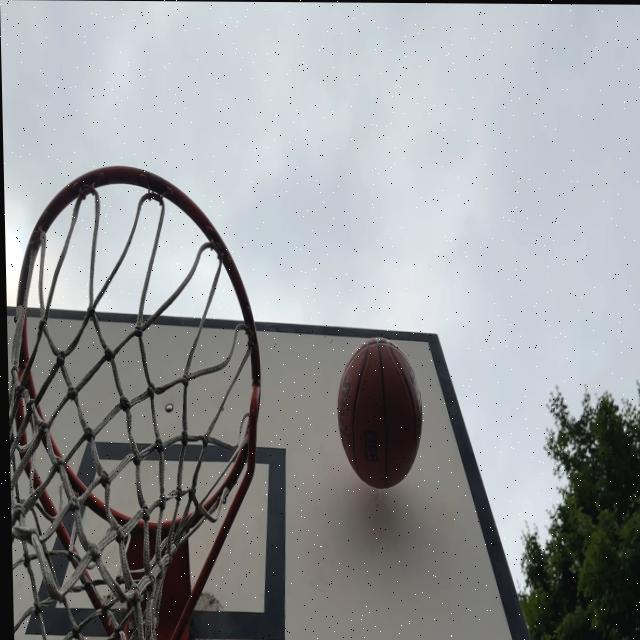Basketball: (335, 336, 423, 489)
